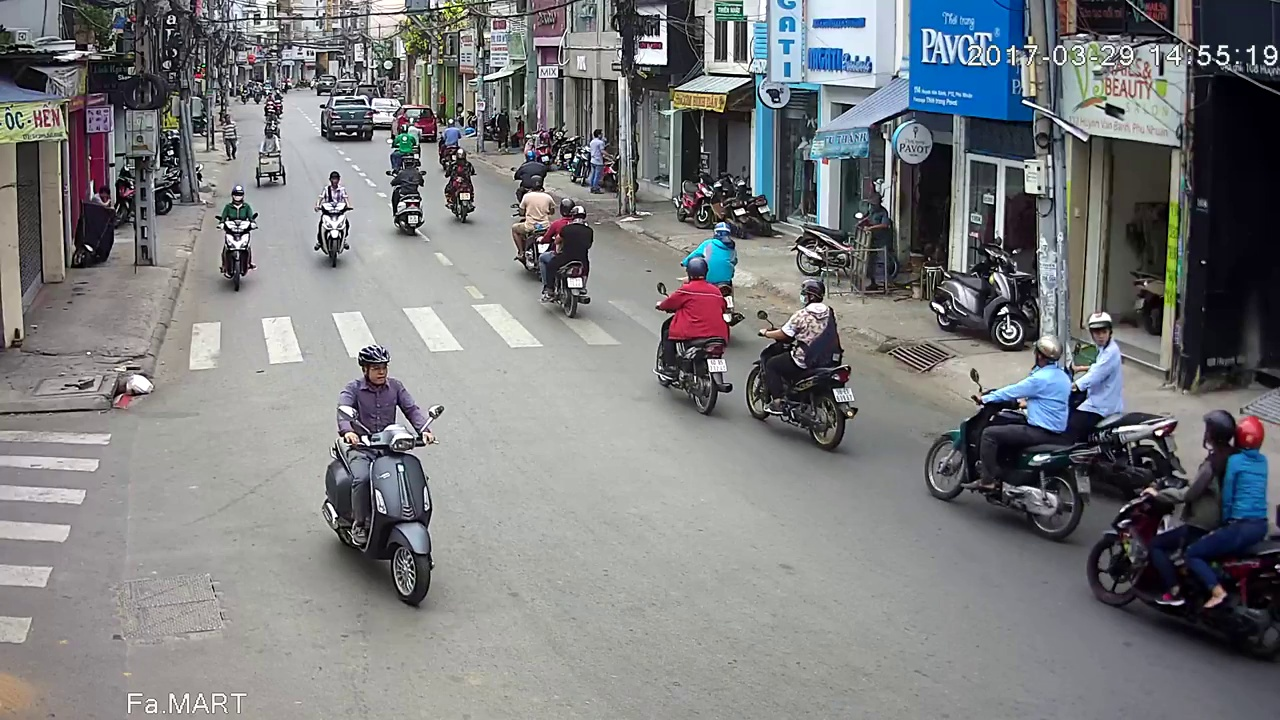car: (319, 96, 375, 141), (391, 105, 438, 142), (372, 97, 400, 127)
motorcycle: (1089, 413, 1280, 663), (924, 335, 1096, 538), (317, 347, 446, 610), (1070, 310, 1186, 497), (746, 279, 858, 453), (654, 255, 734, 414), (683, 221, 745, 327), (541, 199, 595, 318), (216, 186, 257, 290), (514, 177, 557, 276), (311, 169, 354, 267), (387, 158, 428, 233), (444, 149, 476, 224), (389, 125, 419, 176), (437, 118, 465, 172)
